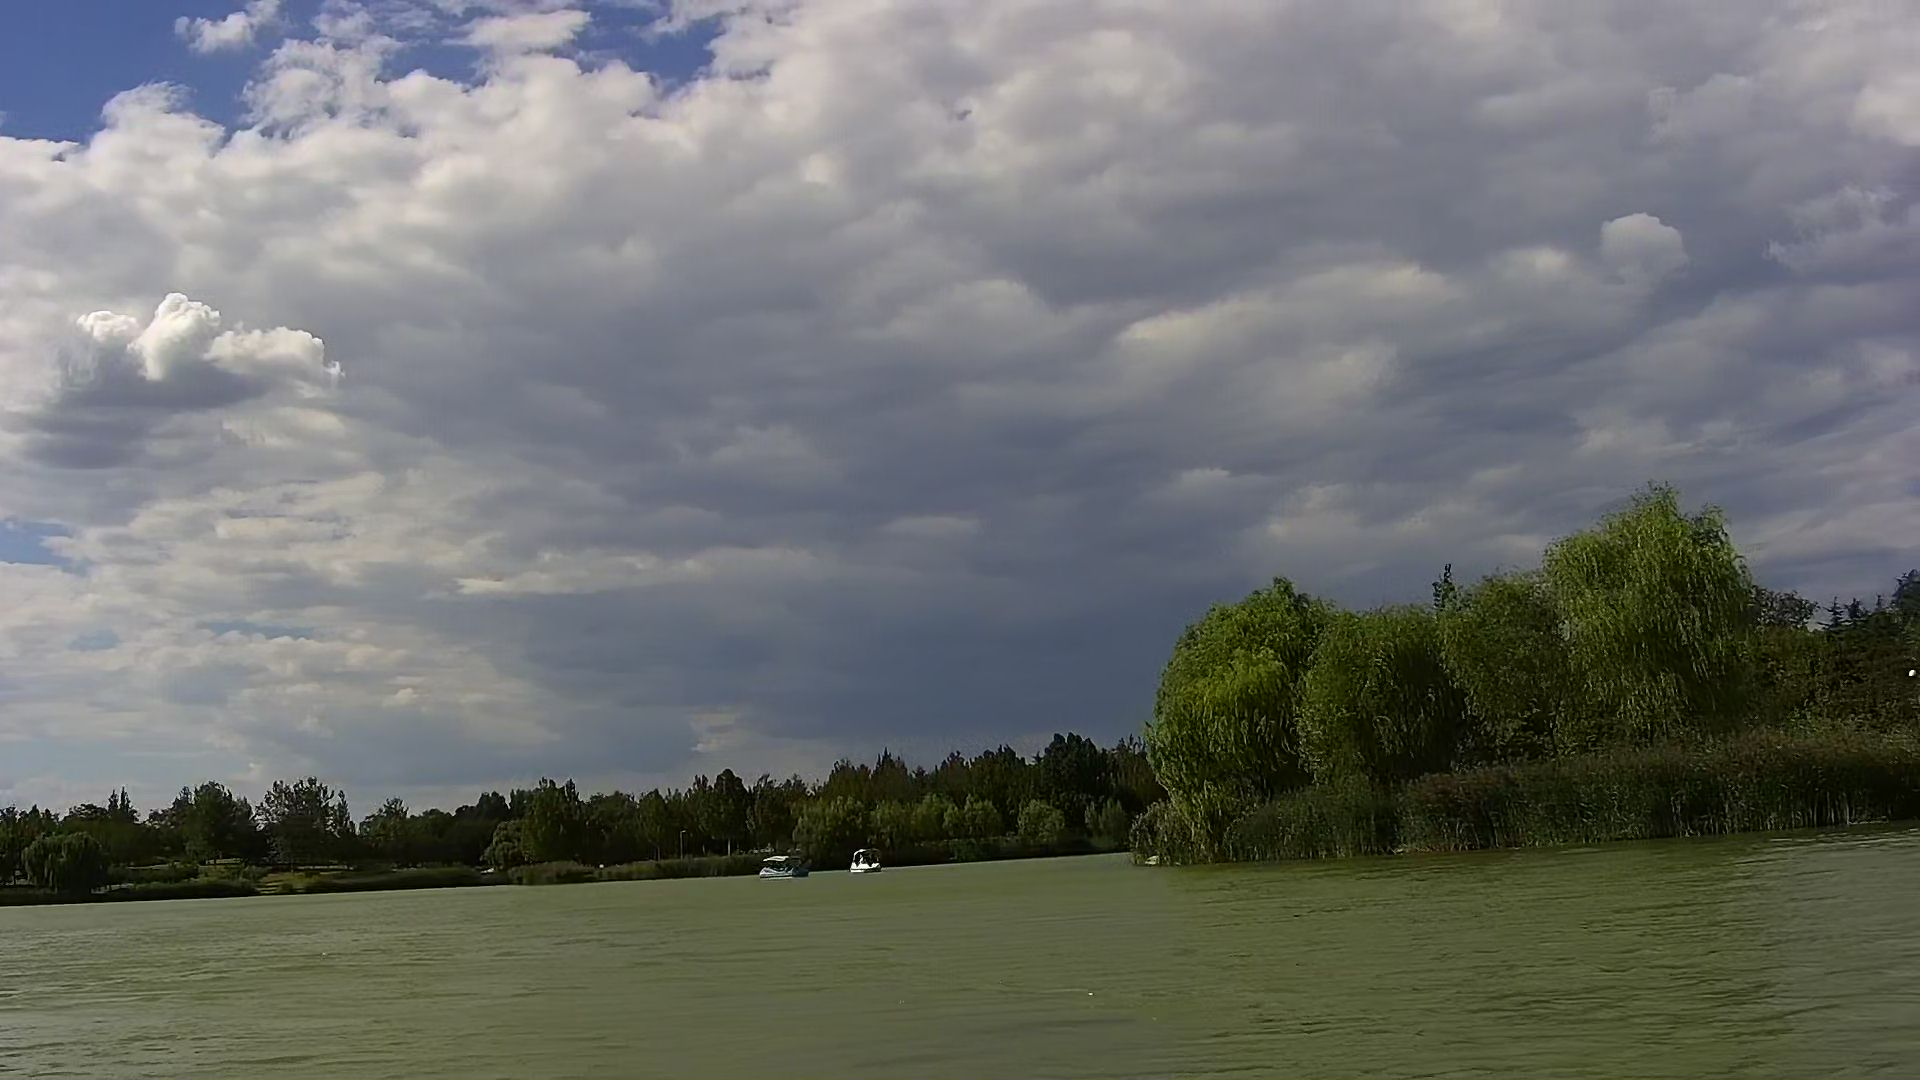boat: (757, 851, 808, 880), (847, 849, 884, 876)
rock: (1145, 849, 1162, 868)
